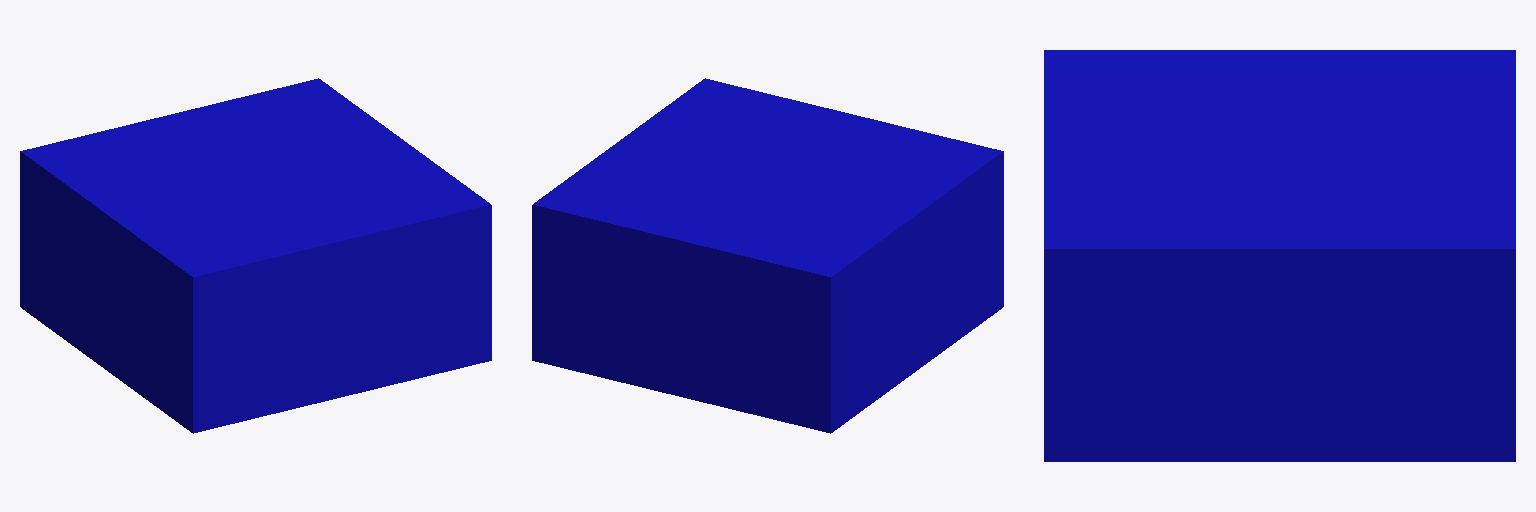
The robot description file, URDF, robot "shelf":
<?xml version="1.0"?>
<robot name="shelf">
  <link name="base_link">
    <visual>
      <origin xyz="0 0 0.1" rpy="0 0 0" />
      <geometry>
        <box size="0.4 0.4 0.2" />
      </geometry>
      <material name="green">
        <color rgba="0.1 0.1 0.8 0.9" />
      </material>
    </visual>
    <collision>
      <origin xyz="0 0 0.1" rpy="0 0 0" />
      <geometry>
        <box size="0.4 0.4 0.2" />
      </geometry>
    </collision>
  </link>
</robot>

--- Facts derived from the render (not from the file) ---
3 views of the same robot in one strip: view 1: azimuth 30°, elevation 25°; view 2: azimuth 150°, elevation 25°; view 3: azimuth 270°, elevation 25° (orthographic).
Model shelf with 1 links and 0 joints (none), rooted at base_link, posed all joints at 0.
Visible links, largest first — view 1: base_link; view 2: base_link; view 3: base_link.
Boxes of the visible links, box(x1,y1,x2,y2) form: base_link: box(20, 78, 491, 433); base_link: box(532, 78, 1003, 433); base_link: box(1044, 50, 1515, 461).
Bounding box of the posed robot: 0.4 × 0.4 × 0.2 m (x, y, z).
Geometry: primitives only (box / cylinder / sphere), no mesh files.